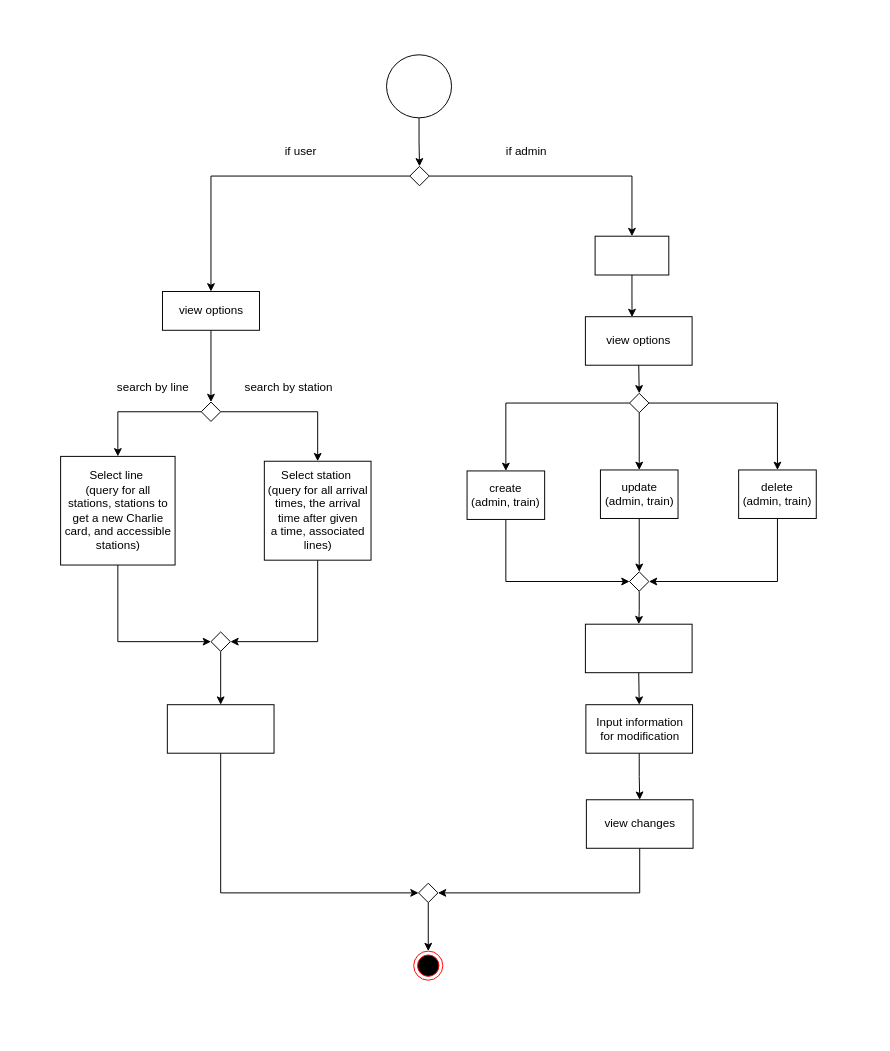
This 890x1051 diagram has some shape labels left out. The box of each missing label's shape, as (x1, y1, x2, y2) in pixels:
sign in: (594, 235, 669, 275)
start: (386, 54, 452, 118)
view current state of entity/table: (584, 623, 692, 673)
view results: (166, 704, 274, 753)
